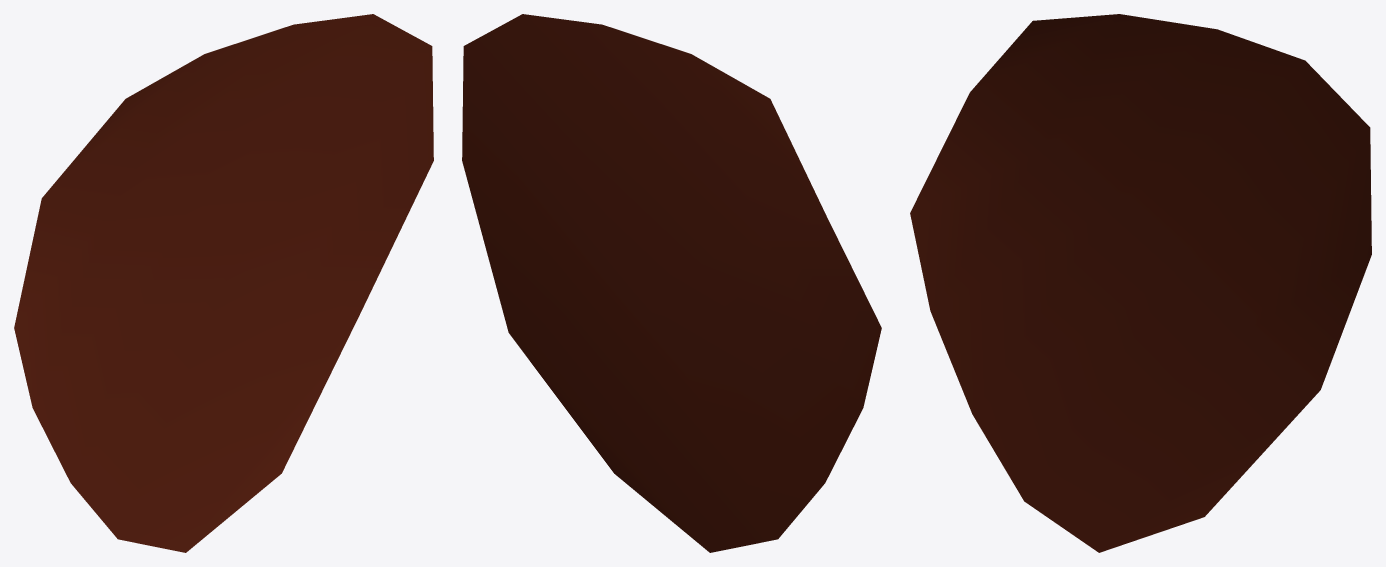
The model's file is finch_feather_flight_tertiary_063.obj.
3 views of the same model, side by side, from view 1: azimuth 30°, elevation 25°; view 2: azimuth 150°, elevation 25°; view 3: azimuth 330°, elevation 25° (orthographic). The views are drawn at different scales.
Visible parts, largest first — view 1: feather_flight_tertiary_063; view 2: feather_flight_tertiary_063; view 3: feather_flight_tertiary_063.
Part boxes in pixels (x1,y1,x2,y2): feather_flight_tertiary_063: (14, 14, 433, 552); feather_flight_tertiary_063: (462, 14, 881, 552); feather_flight_tertiary_063: (910, 14, 1371, 552).
Bounding box in the file's own units: 0.00277 × 0.00317 × 0.000153.
